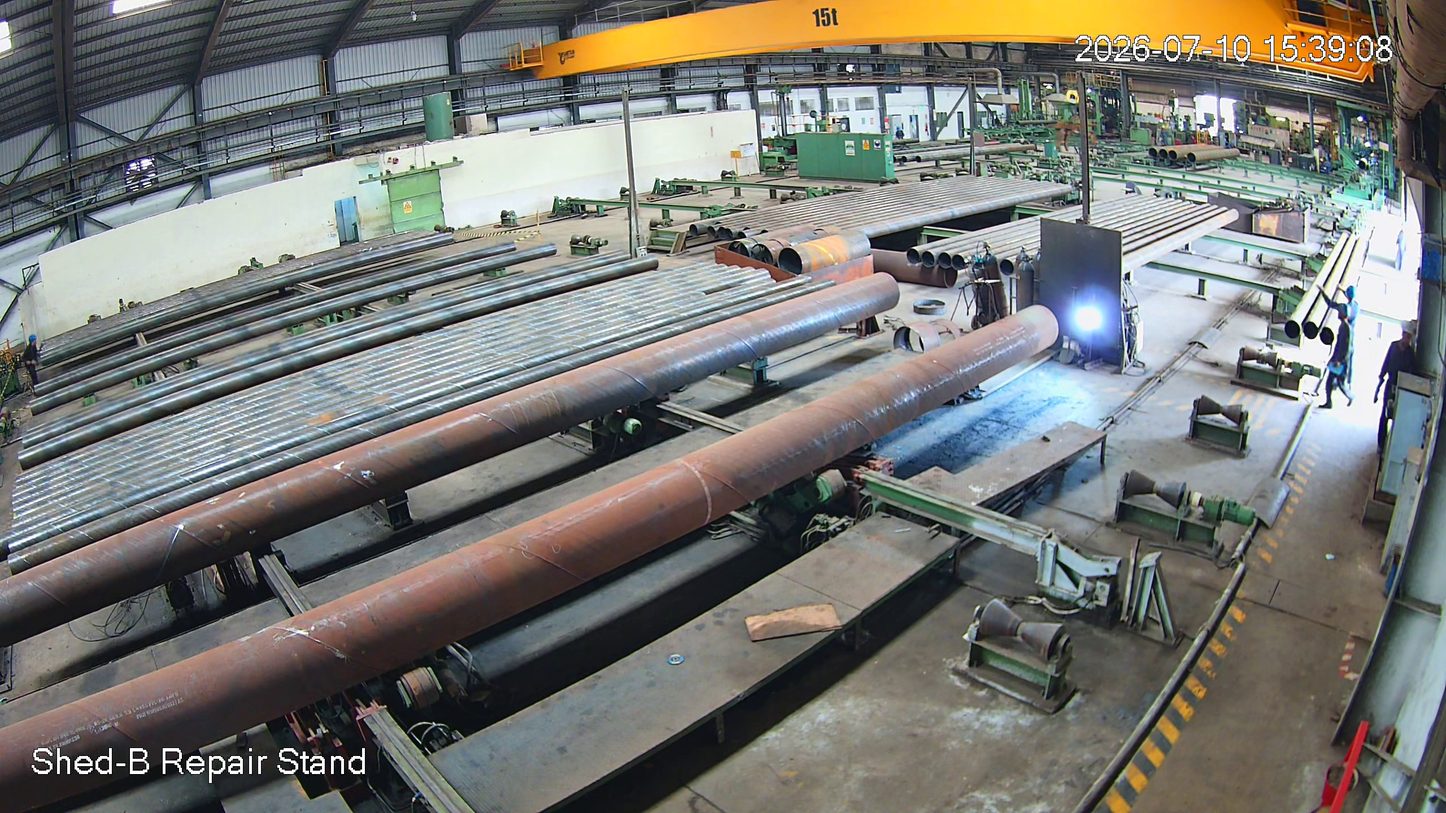Helmet: (1328, 277, 1362, 347)
Person: (1332, 283, 1360, 407)
